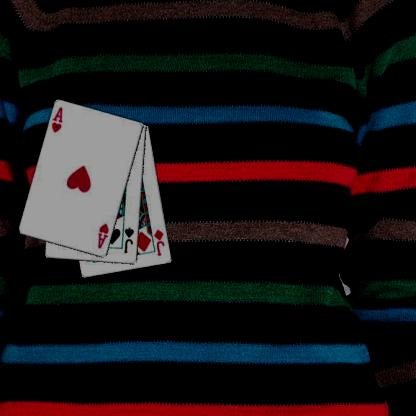AH: (49, 104, 64, 134), (95, 221, 110, 250)
JD: (151, 227, 166, 257)
JS: (122, 225, 135, 254)
